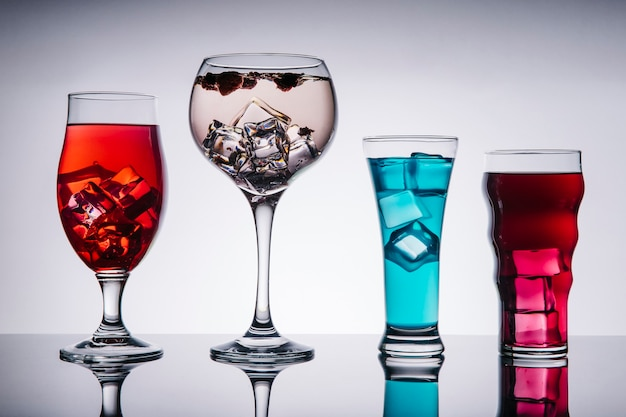alcohol: (184, 54, 338, 365), (53, 89, 168, 367), (475, 148, 588, 365), (356, 132, 461, 360)
